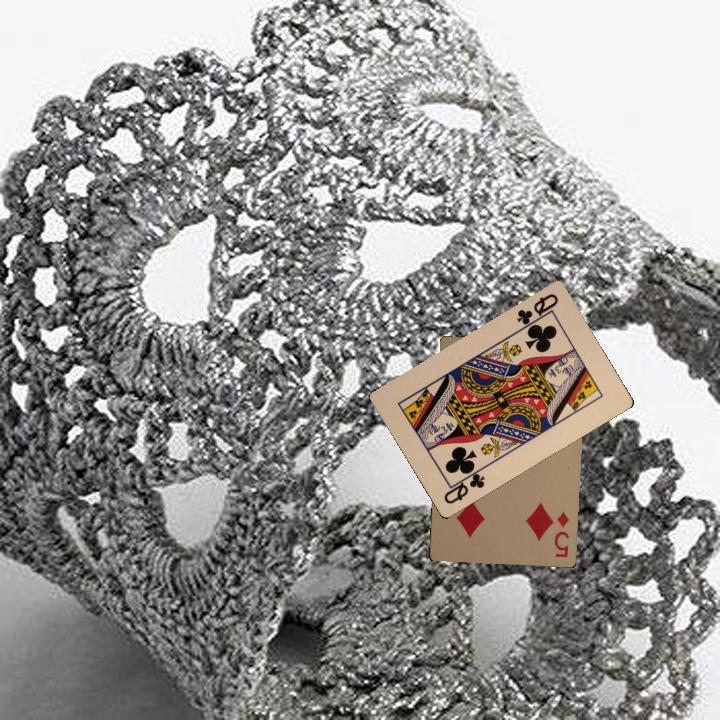5d: (550, 507, 572, 560)
Qc: (439, 464, 488, 507), (512, 289, 561, 332)
